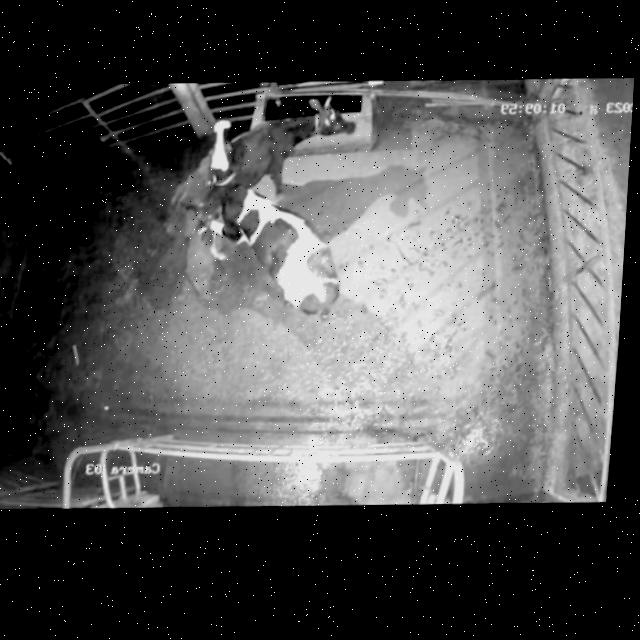propping: (187, 110, 261, 226)
stand: (152, 97, 362, 248)
